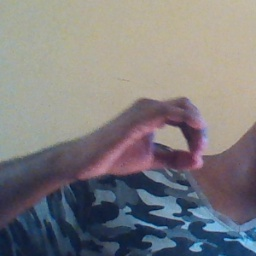O: (90, 85, 209, 183)
